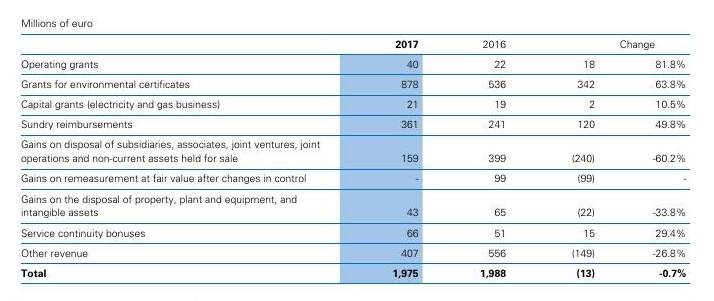table: (0, 0, 714, 301)
